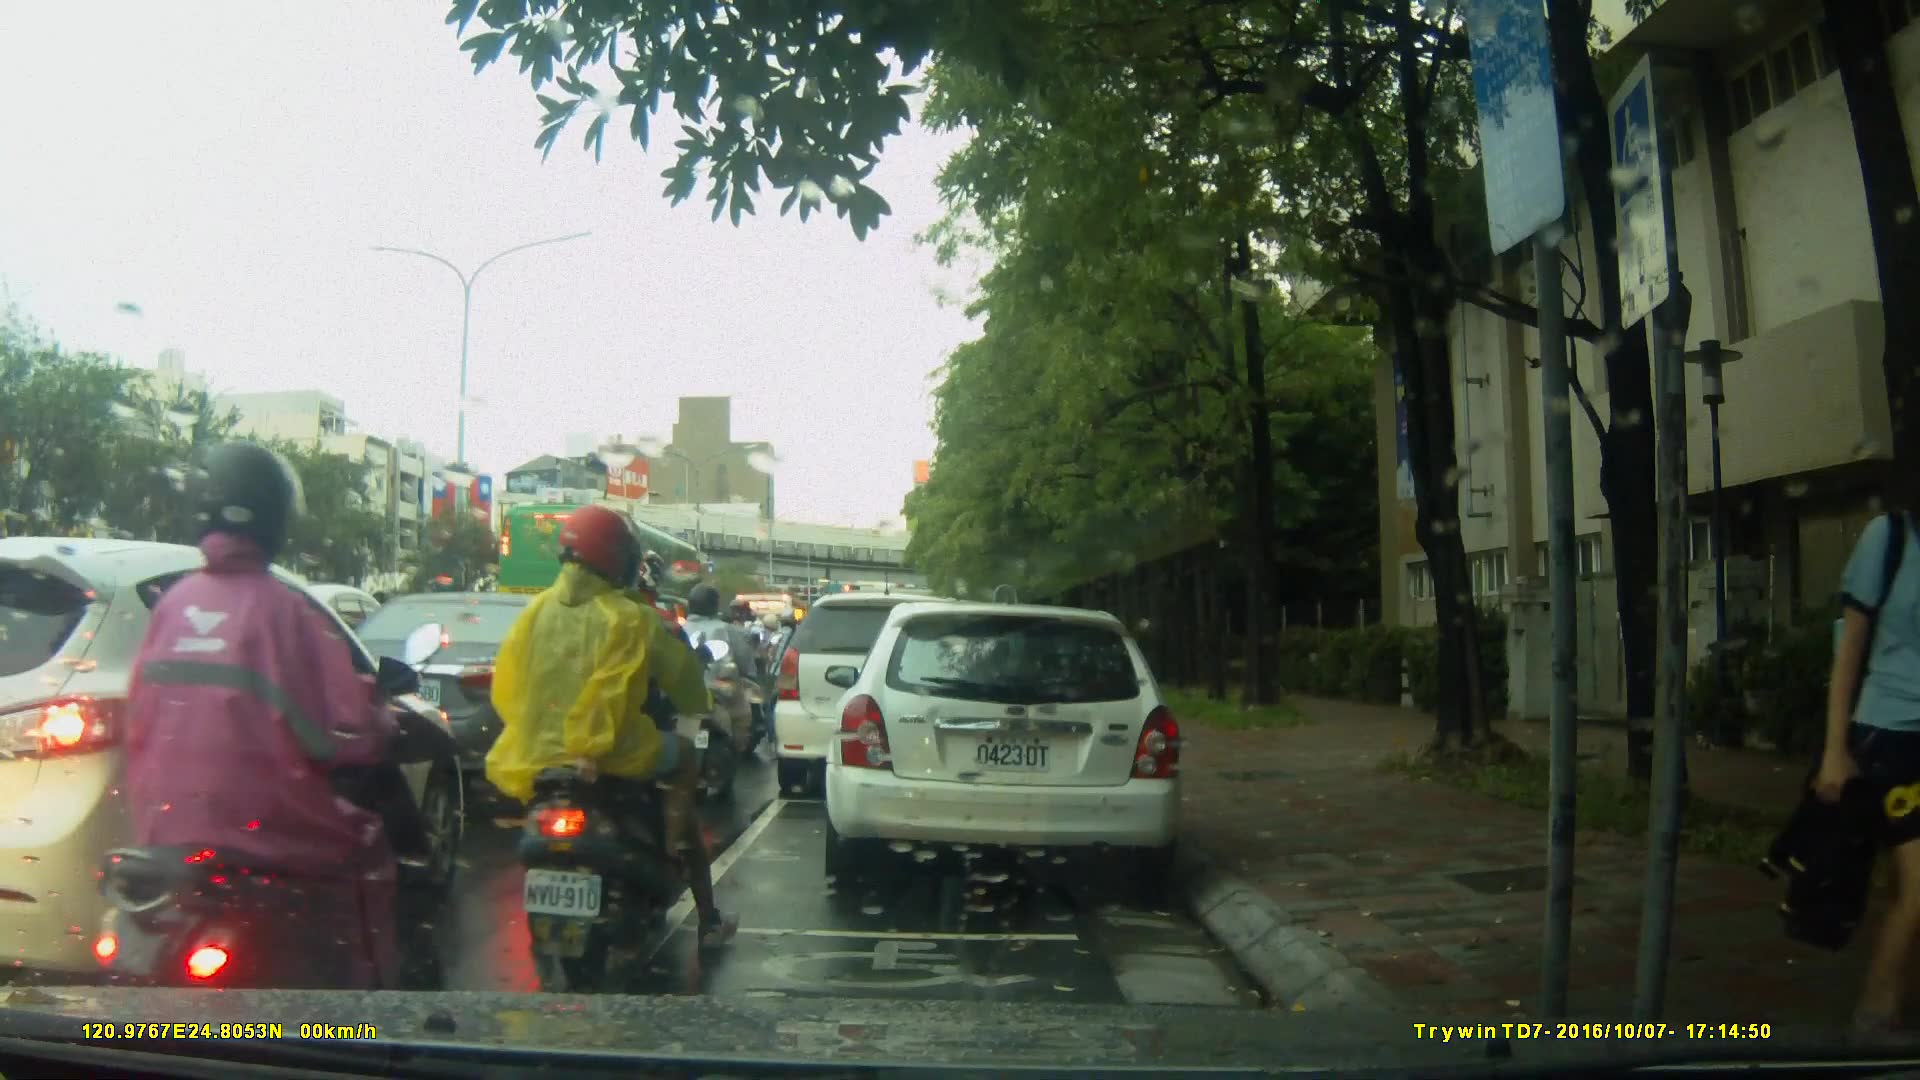pedestrian: (1786, 436, 1920, 1013)
rider: (102, 444, 451, 1064), (485, 510, 713, 980), (666, 586, 752, 796), (720, 593, 775, 756)
vehicle: (3, 534, 464, 988), (831, 592, 1196, 897), (319, 590, 629, 776), (770, 590, 999, 804), (495, 499, 709, 636)
